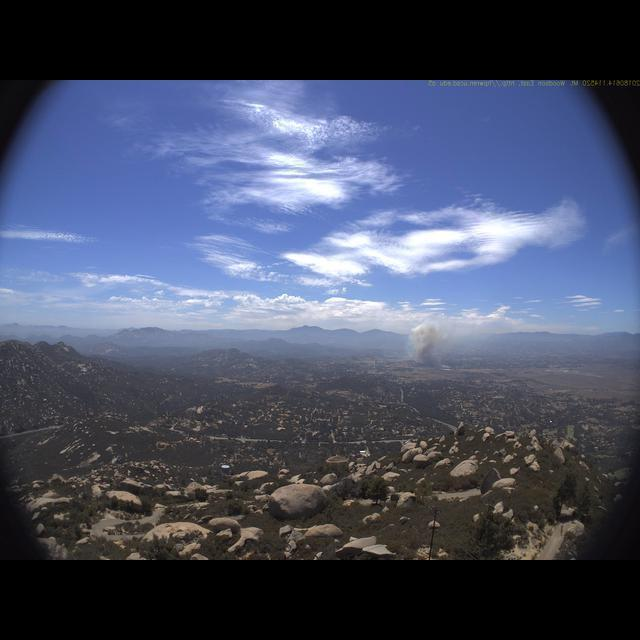Smoke: (402, 316, 449, 376)
